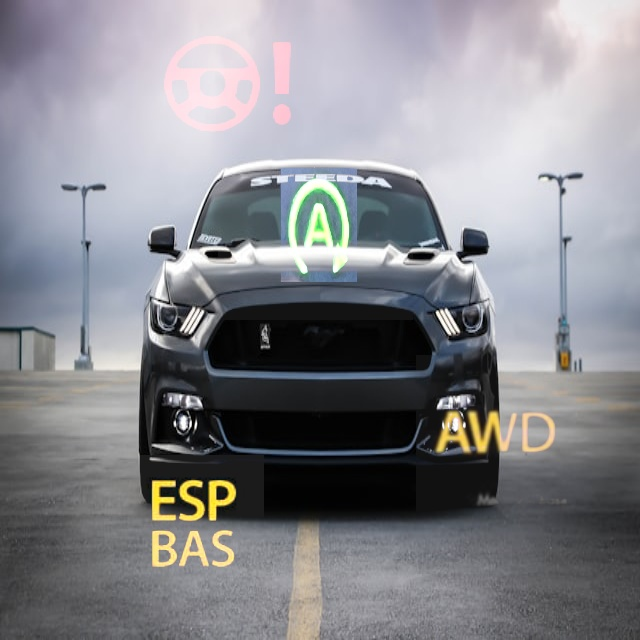symbol: (218, 125, 413, 320), (416, 355, 574, 513), (151, 8, 305, 162), (124, 455, 264, 595)
